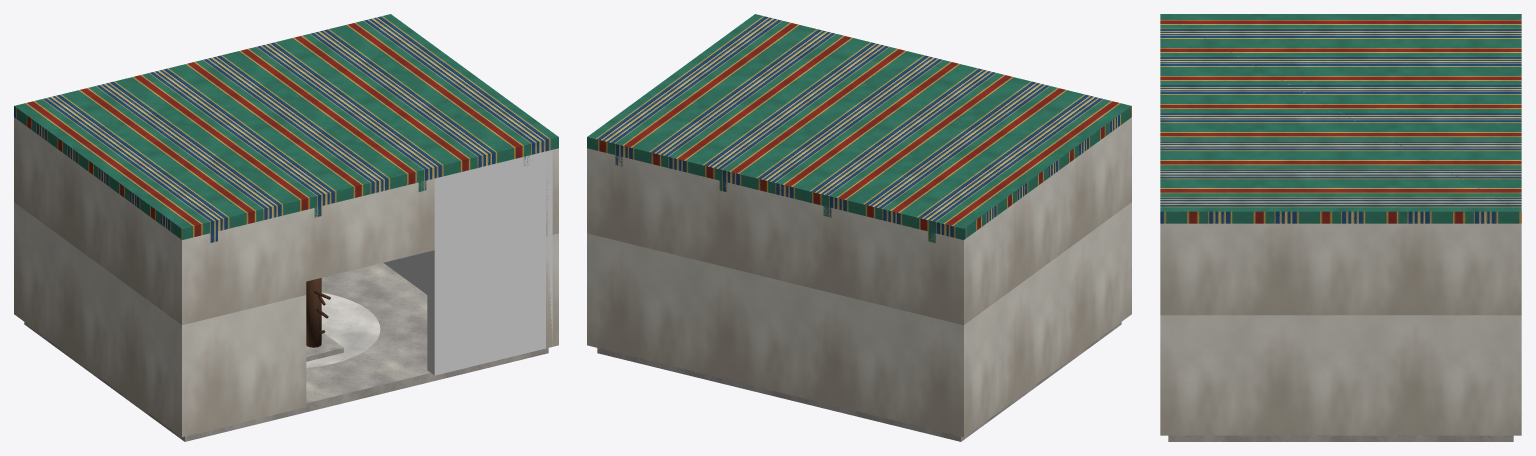
Rendered from weapons_hall.glb.
3 renders of one model, left to right at view 1: azimuth 30°, elevation 25°; view 2: azimuth 150°, elevation 25°; view 3: azimuth 270°, elevation 25°, orthographic. The views are drawn at different scales.
Visible parts, largest first — view 1: Walls, Ceiling, ShellFront-convcolonly.001, Floor, SparringRing, Dummy, RackCol-convcolonly.001, DummyBase; view 2: Walls, Ceiling, Floor; view 3: Walls, Ceiling, Floor.
Boxes of the visible parts, left/top/right/bottom form: Walls: left=14, top=117, right=558, bottom=437; Ceiling: left=14, top=14, right=558, bottom=242; ShellFront-convcolonly.001: left=427, top=150, right=552, bottom=375; Floor: left=24, top=263, right=548, bottom=441; SparringRing: left=306, top=292, right=380, bottom=367; Dummy: left=306, top=278, right=330, bottom=347; RackCol-convcolonly.001: left=383, top=252, right=427, bottom=294; DummyBase: left=306, top=333, right=343, bottom=361; Walls: left=587, top=117, right=1131, bottom=437; Ceiling: left=587, top=14, right=1131, bottom=242; Floor: left=597, top=322, right=1121, bottom=441; Walls: left=1160, top=223, right=1521, bottom=435; Ceiling: left=1160, top=14, right=1521, bottom=223; Floor: left=1168, top=435, right=1513, bottom=441.
Size of what is drawn, in the model's own units: 8.8 by 4.85 by 6.8.
7 materials, 7 textured.
